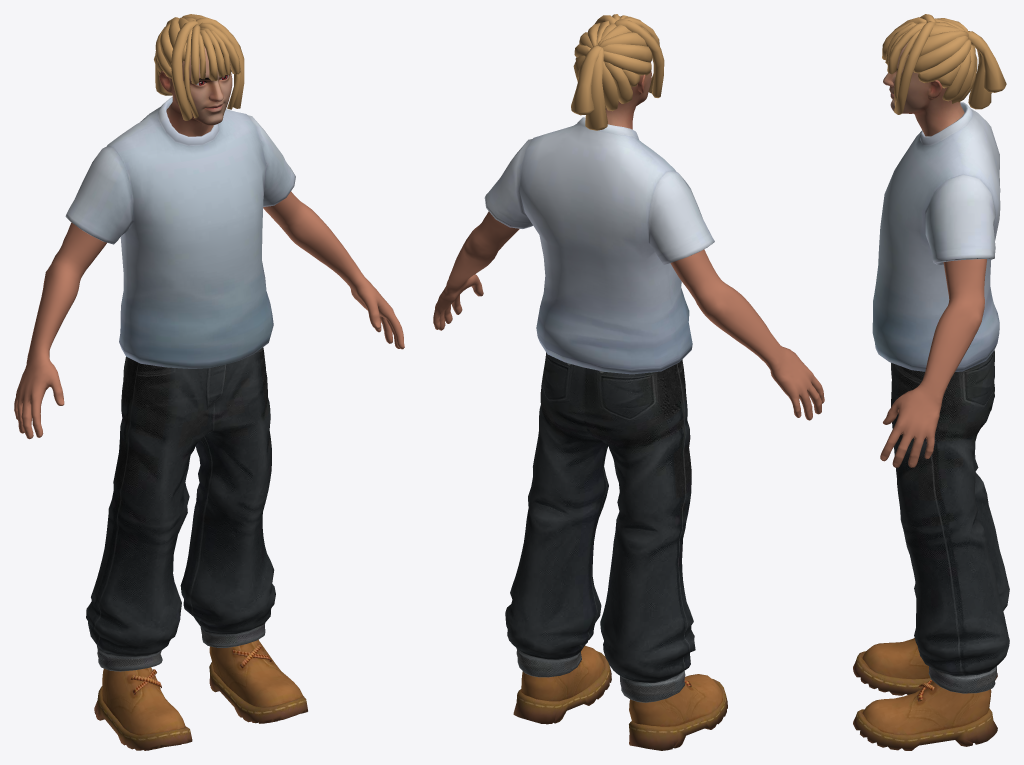
The model's file is Naijel.glb.
3 renders of one model, left to right at view 1: azimuth 30°, elevation 25°; view 2: azimuth 150°, elevation 25°; view 3: azimuth 270°, elevation 25°, orthographic.
Parts seen in each view (by area): view 1: Wolf3D_Outfit_Bottom, Wolf3D_Outfit_Top, Wolf3D_Body, Wolf3D_Outfit_Footwear, Wolf3D_Hair, Wolf3D_Head; view 2: Wolf3D_Outfit_Bottom, Wolf3D_Outfit_Top, Wolf3D_Body, Wolf3D_Outfit_Footwear, Wolf3D_Hair, Wolf3D_Head; view 3: Wolf3D_Outfit_Bottom, Wolf3D_Outfit_Top, Wolf3D_Outfit_Footwear, Wolf3D_Body, Wolf3D_Hair, Wolf3D_Head.
Part boxes in pixels (left/top/right/bottom): Wolf3D_Outfit_Bottom: left=86, top=347, right=275, bottom=671; Wolf3D_Outfit_Top: left=65, top=97, right=295, bottom=368; Wolf3D_Body: left=14, top=191, right=404, bottom=439; Wolf3D_Outfit_Footwear: left=94, top=639, right=307, bottom=750; Wolf3D_Hair: left=154, top=14, right=244, bottom=120; Wolf3D_Head: left=159, top=46, right=232, bottom=136; Wolf3D_Outfit_Bottom: left=505, top=352, right=695, bottom=702; Wolf3D_Outfit_Top: left=484, top=117, right=714, bottom=374; Wolf3D_Body: left=433, top=211, right=824, bottom=420; Wolf3D_Outfit_Footwear: left=513, top=645, right=727, bottom=750; Wolf3D_Hair: left=571, top=14, right=664, bottom=130; Wolf3D_Head: left=605, top=61, right=651, bottom=129; Wolf3D_Outfit_Bottom: left=891, top=350, right=1009, bottom=693; Wolf3D_Outfit_Top: left=872, top=102, right=1000, bottom=371; Wolf3D_Outfit_Footwear: left=853, top=638, right=997, bottom=750; Wolf3D_Body: left=880, top=259, right=986, bottom=467; Wolf3D_Hair: left=882, top=14, right=1006, bottom=114; Wolf3D_Head: left=883, top=41, right=964, bottom=136.
Size of the model in its own units: 1.06 by 1.88 by 0.3841.
8 materials, 8 textured.
